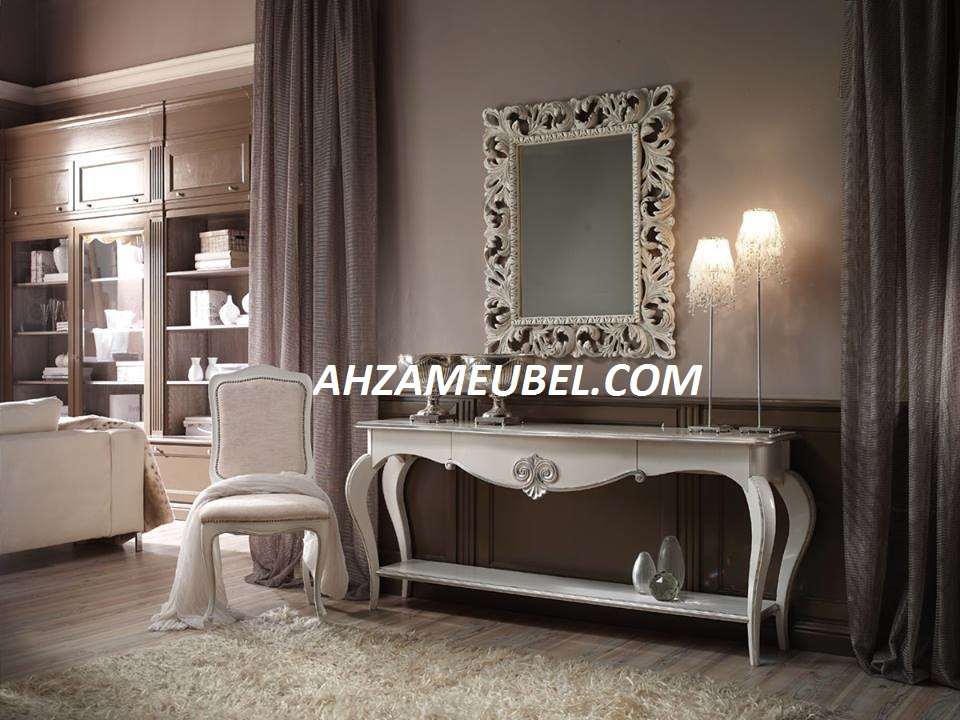Carving Chair: (178, 356, 342, 626)
Carving Table: (359, 403, 825, 691)
